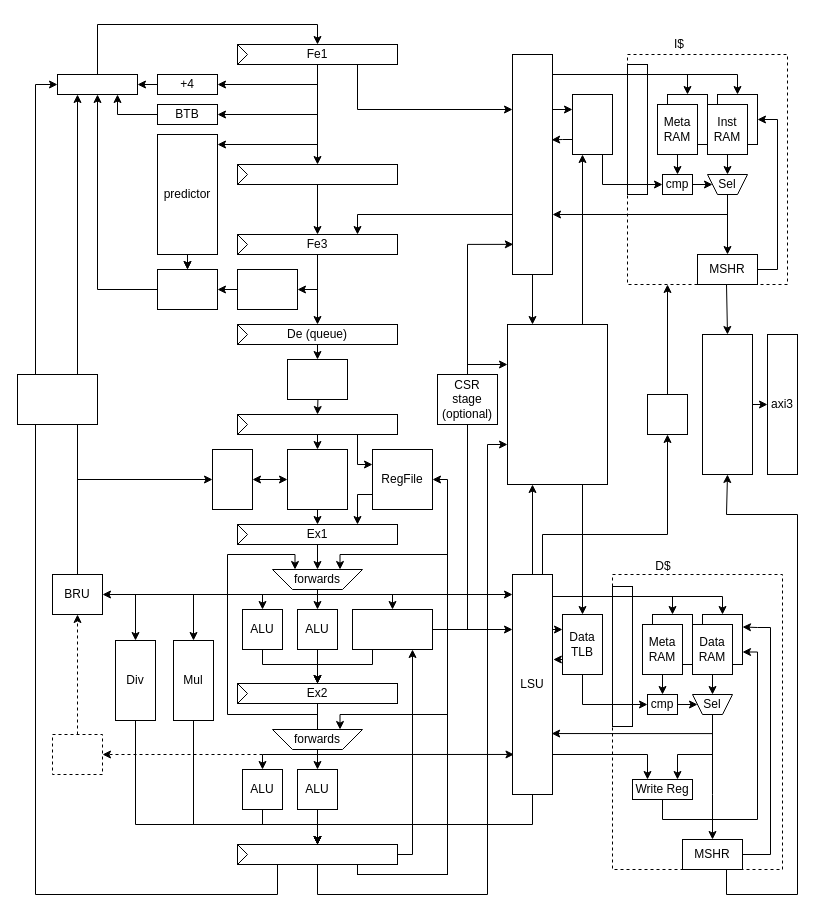
Image size: 823x920. Some labels were removed from this diagram. The shapes that lost their labels are listed below. From the top down, each one's centre as x and y in pixels, then its label:
(97,84): nextpc
(592,124): Inst TLB
(317,174): Fe2
(532,164): IFU
(187,289): judge
(267,289): pre Decode
(57,399): cancel stage (optional)
(317,379): Inst Decoder
(317,424): IS
(557,404): L2 TLB
(667,414): Cacop stage
(727,404): Bus Convert & Arbiter
(232,479): Score Board
(317,479): Issue Logic
(392,629): CSR
(77,754): BRU (optional)
(317,854): Wb
